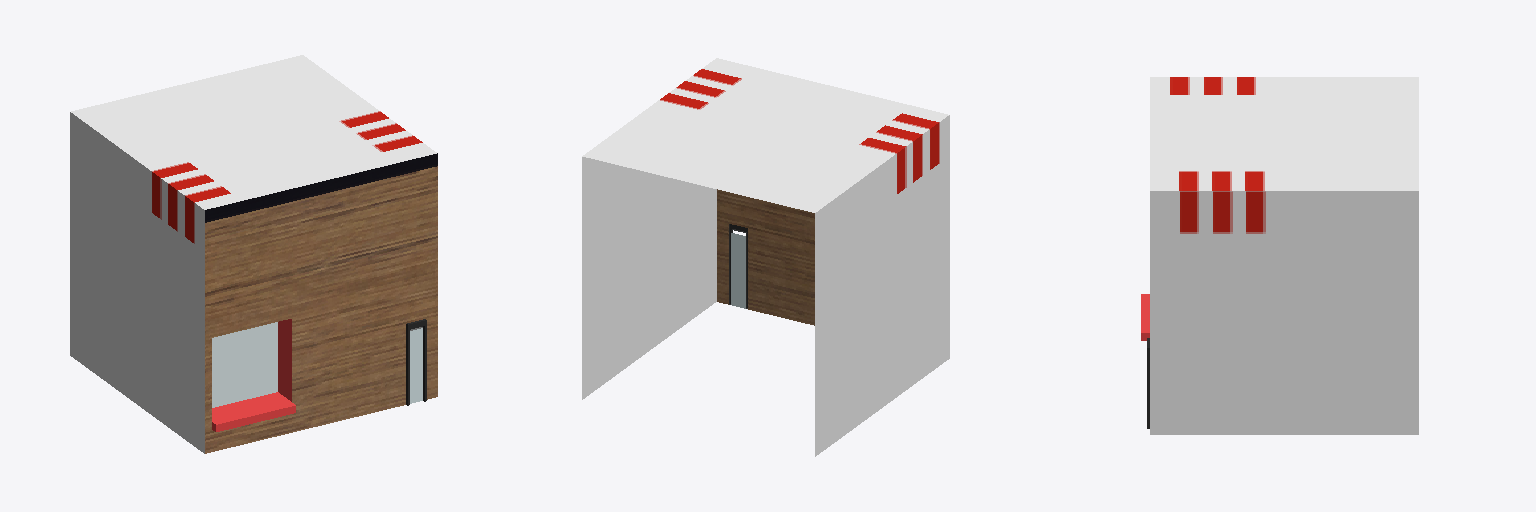
3 views of the same model, side by side, from view 1: azimuth 30°, elevation 25°; view 2: azimuth 150°, elevation 25°; view 3: azimuth 270°, elevation 25° (orthographic).
Visible parts, largest first — view 1: house-2-temp; view 2: house-2-temp; view 3: house-2-temp.
Part boxes in pixels (bbox=[...]): house-2-temp: bbox=[70, 55, 437, 453]; house-2-temp: bbox=[582, 58, 949, 456]; house-2-temp: bbox=[1141, 77, 1418, 434].
Bounding box in the file's own units: 1 × 1 × 1.03.
Materials: 1 (1 with a texture image).